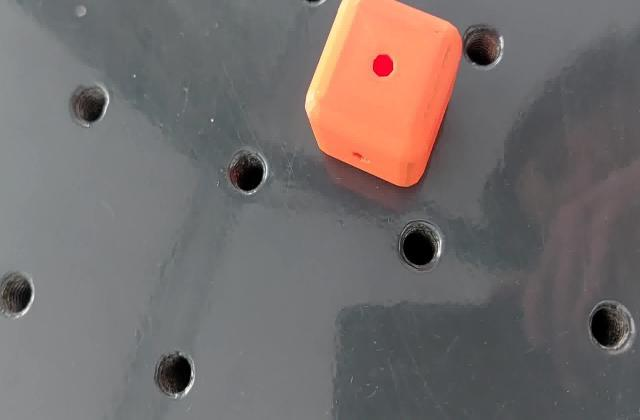cube: (303, 2, 466, 193)
